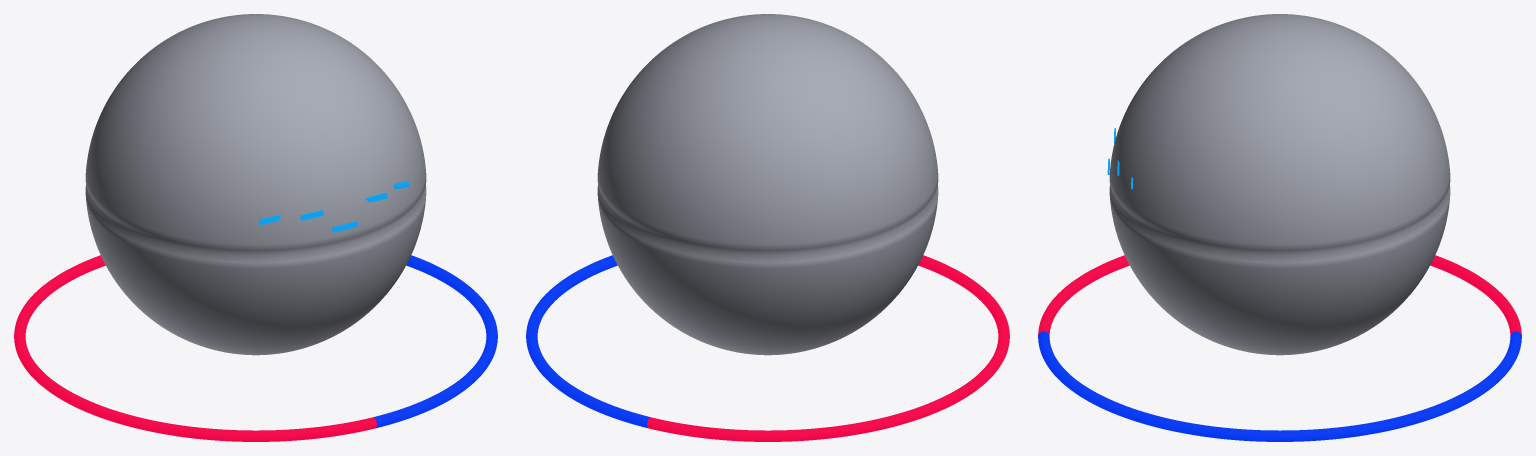
The model's file is robo1.glb.
3 views of the same model, side by side, from view 1: azimuth 30°, elevation 25°; view 2: azimuth 150°, elevation 25°; view 3: azimuth 270°, elevation 25° (orthographic).
Visible parts, largest first — view 1: acik metalik ice oluklu kure robot, tek parca koyu kirmizi mavi neon halka; view 2: acik metalik ice oluklu kure robot, tek parca koyu kirmizi mavi neon halka; view 3: acik metalik ice oluklu kure robot, tek parca koyu kirmizi mavi neon halka.
Boxes of the visible parts, box(x1,y1,x2,y2) form: acik metalik ice oluklu kure robot: box(85, 14, 426, 355); tek parca koyu kirmizi mavi neon halka: box(14, 255, 497, 441); acik metalik ice oluklu kure robot: box(597, 14, 938, 355); tek parca koyu kirmizi mavi neon halka: box(526, 255, 1009, 441); acik metalik ice oluklu kure robot: box(1109, 14, 1450, 355); tek parca koyu kirmizi mavi neon halka: box(1038, 255, 1521, 441).
Bounding box in the file's own units: 3.18 × 2.26 × 3.18.
